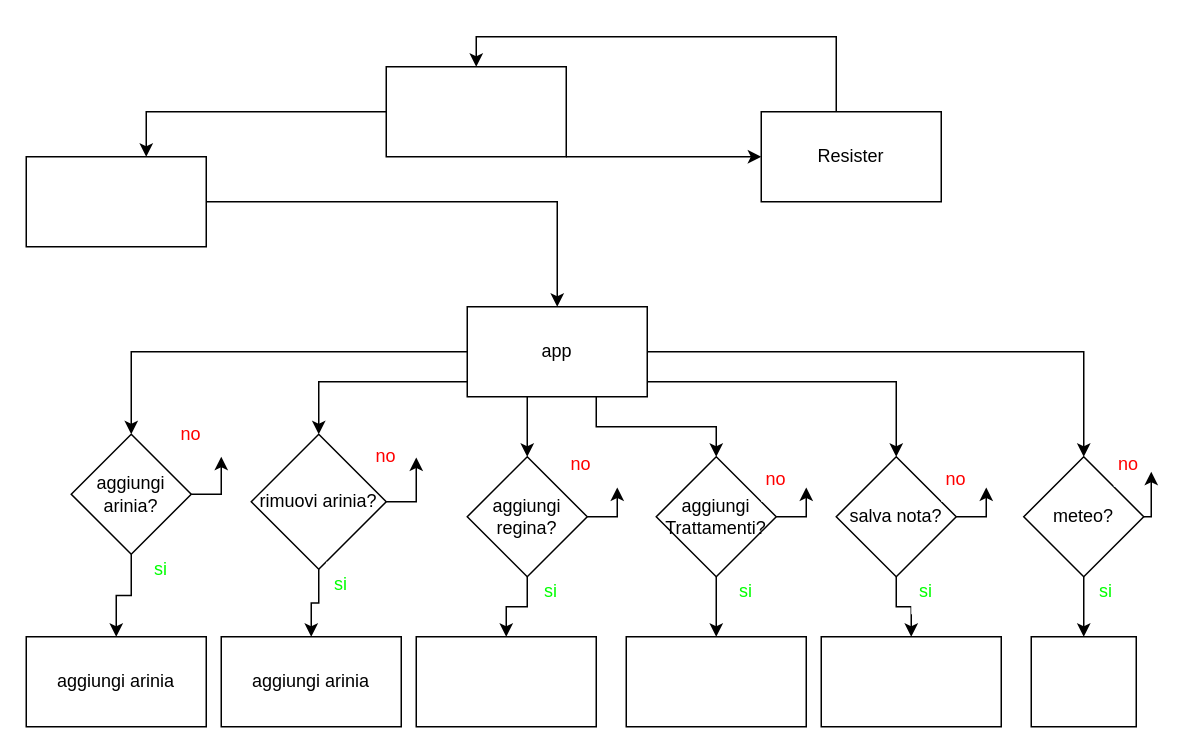
This 1190x753 diagram has some shape labels left out. The shapes that lost their labels are listed below. From the top down, each one's centre as x and y in pixels, then its label:
the point at 475,111: start
the point at 115,201: Login
the point at 505,681: aggiungi regina
the point at 715,681: aggiungi trattamenti
the point at 910,681: salva nota
the point at 1083,681: meteo
